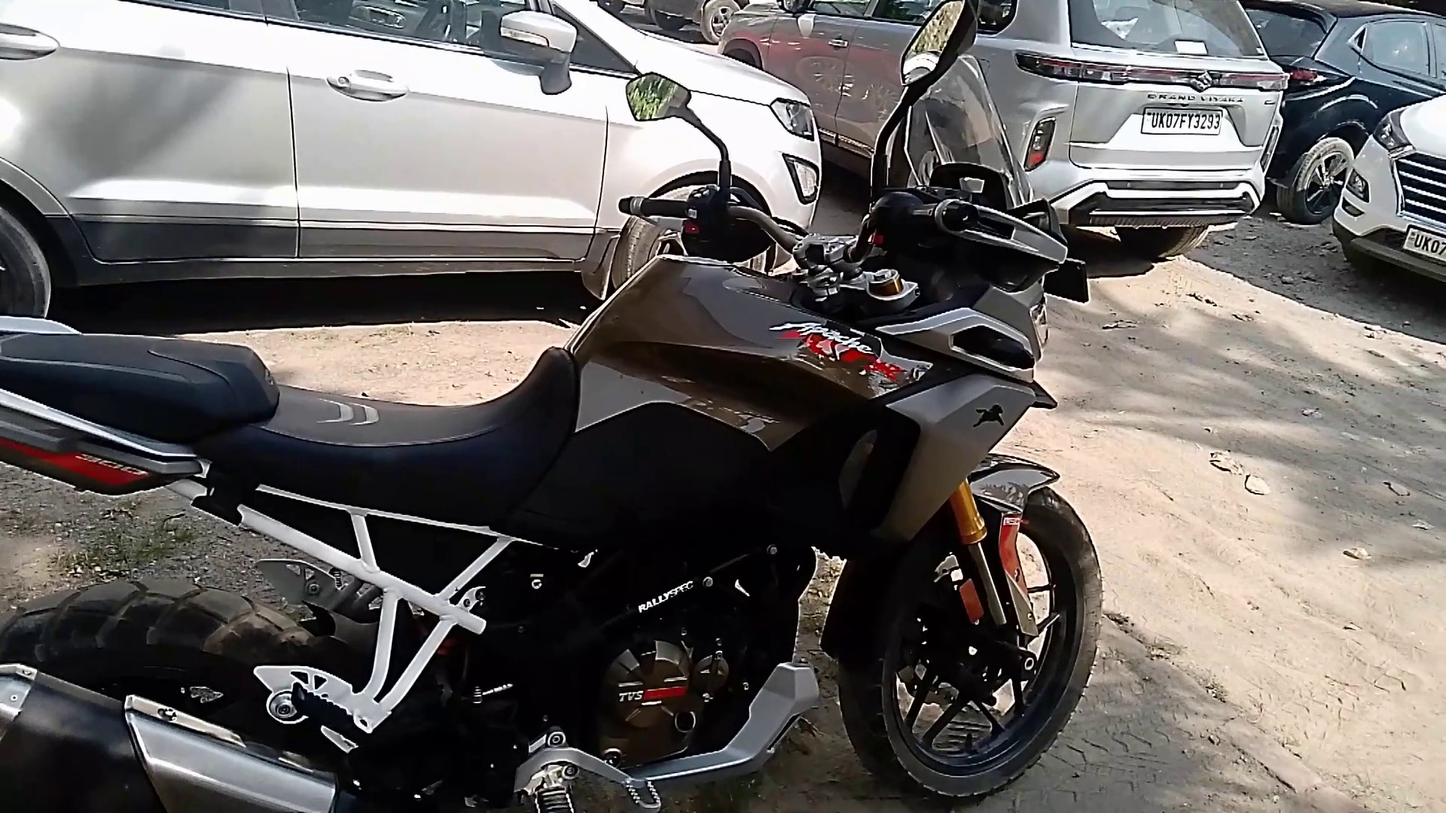engine: (563, 574, 761, 785)
oil_cap: (663, 698, 710, 741)
oil_marker: (591, 740, 635, 773)
